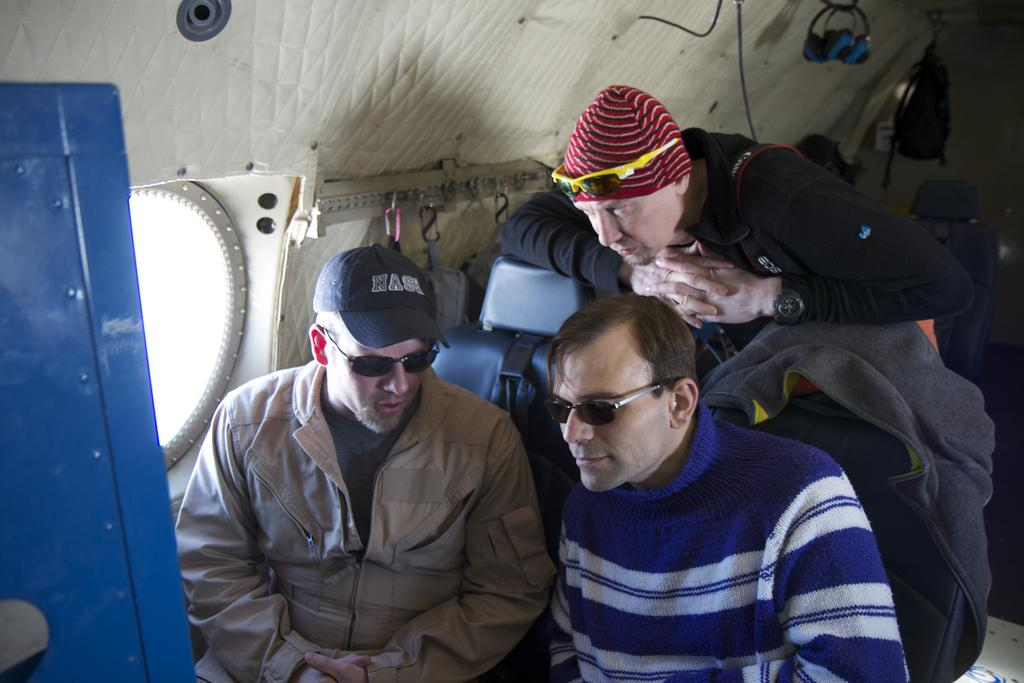Hat: (310, 239, 452, 349)
